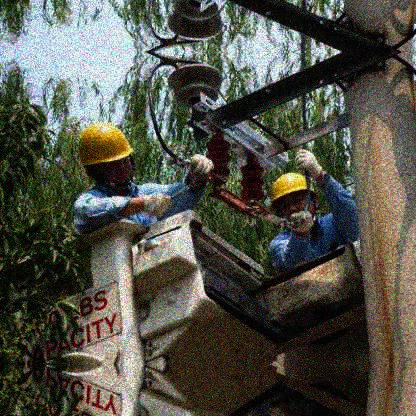helmet: (78, 121, 135, 188), (271, 172, 319, 226)
